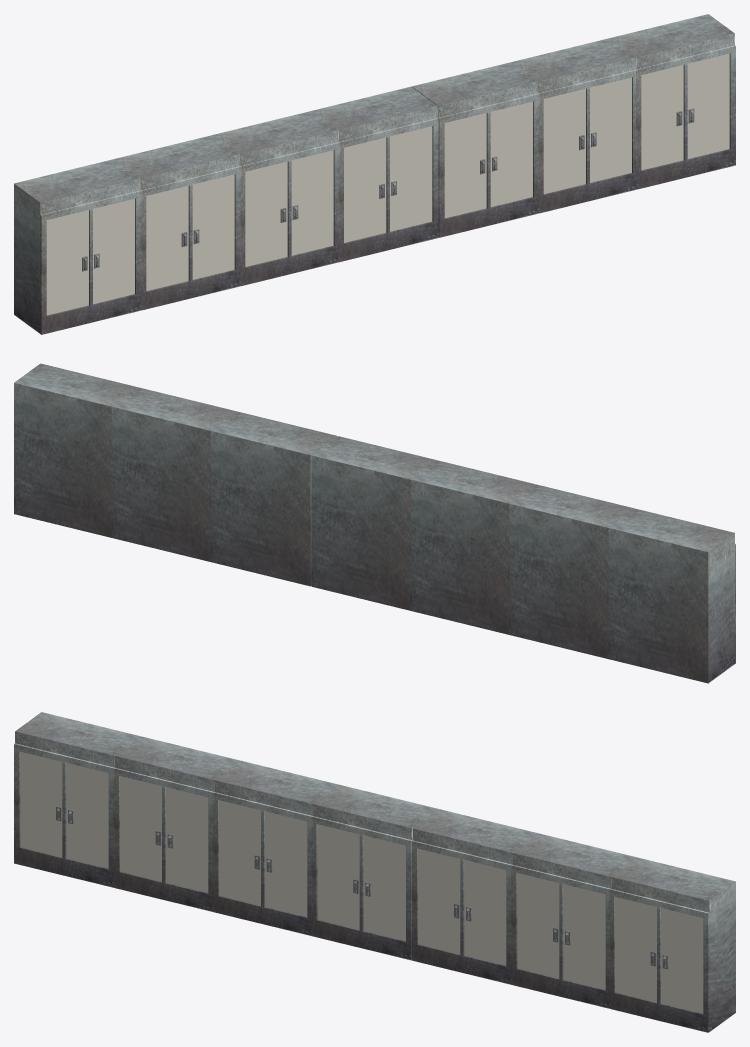
Rendered from kulkas freezzer.fbx.
The picture shows the model from 3 angles, top to bottom: view 1: azimuth 30°, elevation 25°; view 2: azimuth 150°, elevation 25°; view 3: azimuth 330°, elevation 25°; orthographic projection.
Parts seen in each view (by area): view 1: Cube.023, Cube.031, Cube.030, Cube.024, Cube.033, Cube.025, Cube.032; view 2: Cube.023, Cube.031, Cube.032, Cube.030, Cube.024, Cube.025, Cube.033; view 3: Cube.033, Cube.031, Cube.030, Cube.024, Cube.023, Cube.025, Cube.032.
Boxes of the visible parts, x1,y1,x2,y2 form: Cube.023: [14, 159, 141, 334]; Cube.031: [411, 62, 539, 237]; Cube.030: [313, 86, 438, 262]; Cube.024: [114, 135, 240, 310]; Cube.033: [609, 14, 735, 189]; Cube.025: [213, 110, 339, 286]; Cube.032: [512, 38, 638, 213]; Cube.023: [608, 508, 735, 683]; Cube.031: [210, 411, 336, 586]; Cube.032: [111, 387, 236, 561]; Cube.030: [311, 436, 435, 610]; Cube.024: [509, 484, 634, 658]; Cube.025: [410, 460, 534, 634]; Cube.033: [14, 363, 138, 537]; Cube.033: [608, 857, 735, 1032]; Cube.031: [411, 809, 537, 984]; Cube.030: [311, 785, 438, 960]; Cube.024: [113, 736, 240, 911]; Cube.023: [14, 712, 140, 887]; Cube.025: [212, 760, 339, 935]; Cube.032: [511, 833, 637, 1008].
Size of the model in its own units: 1460 by 264 by 102.
